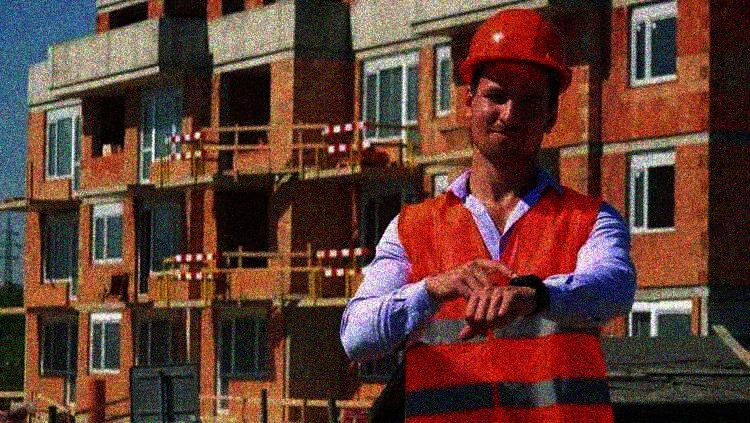helmet: (457, 7, 575, 159)
